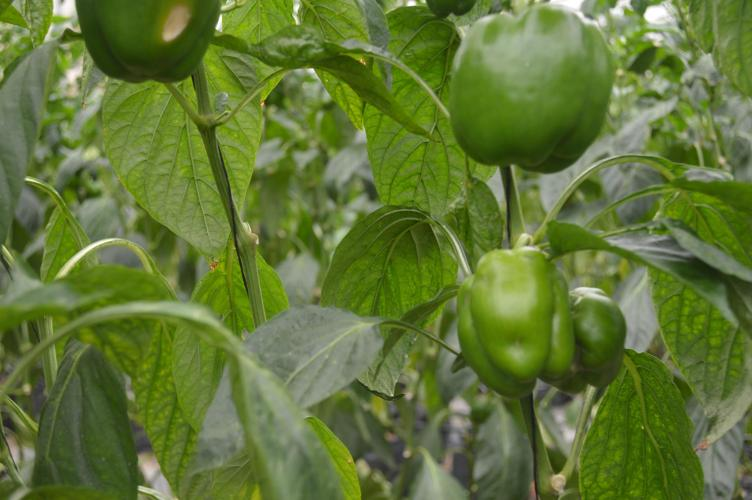BellPepper: (445, 7, 613, 174), (460, 251, 568, 393), (73, 4, 217, 88), (558, 285, 626, 390)
